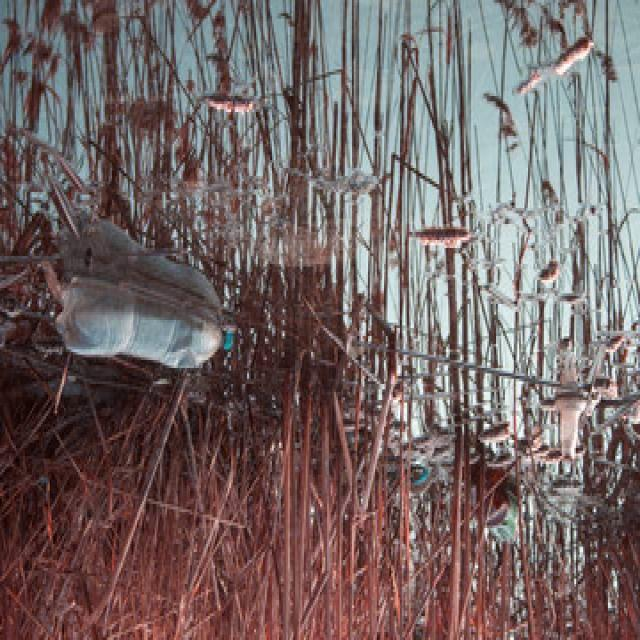Plastic: (56, 303, 237, 367), (548, 396, 595, 464)
Trash: (483, 500, 534, 555)
